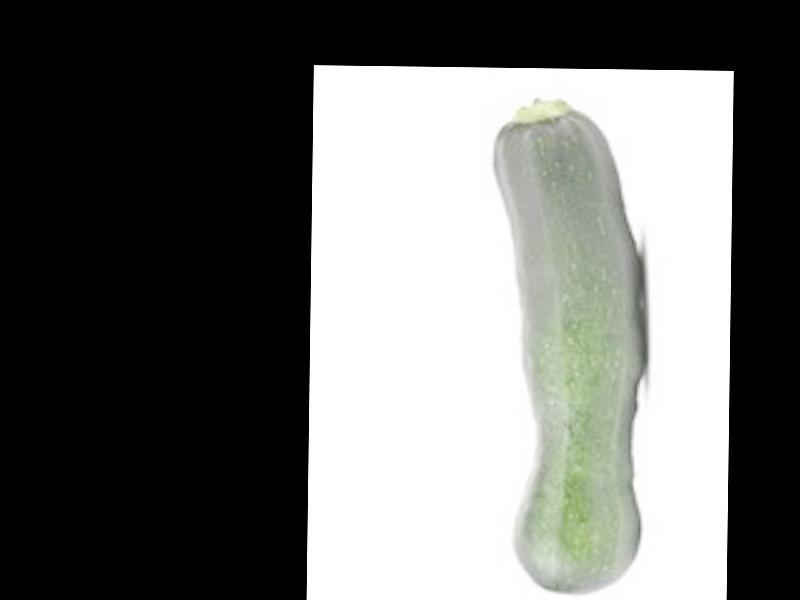Cucumber: (486, 96, 648, 594)
